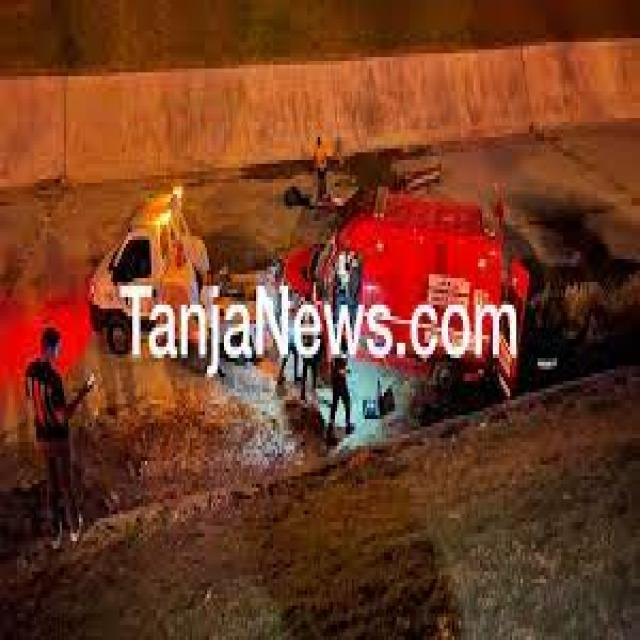ambulance: (285, 146, 526, 413)
